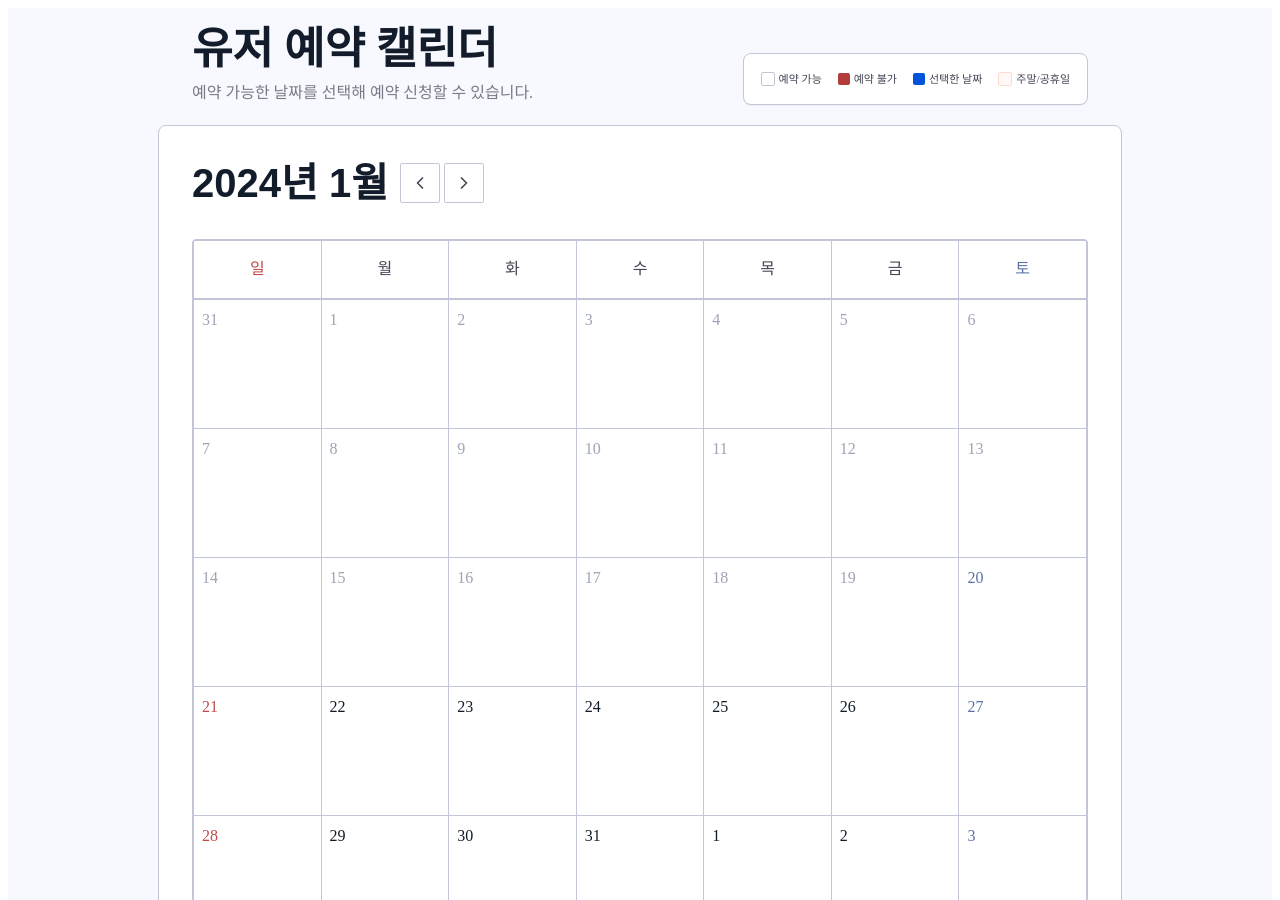
CalendarUser › Date Selection › 예약 가능한 미래 날짜는 선택과 해제가 가능하고 예약 요청 상태로 표시된다
The width and height of the screenshot is (1280, 900).
Click the text "25" at x=768, y=751, box [704, 687, 831, 815]
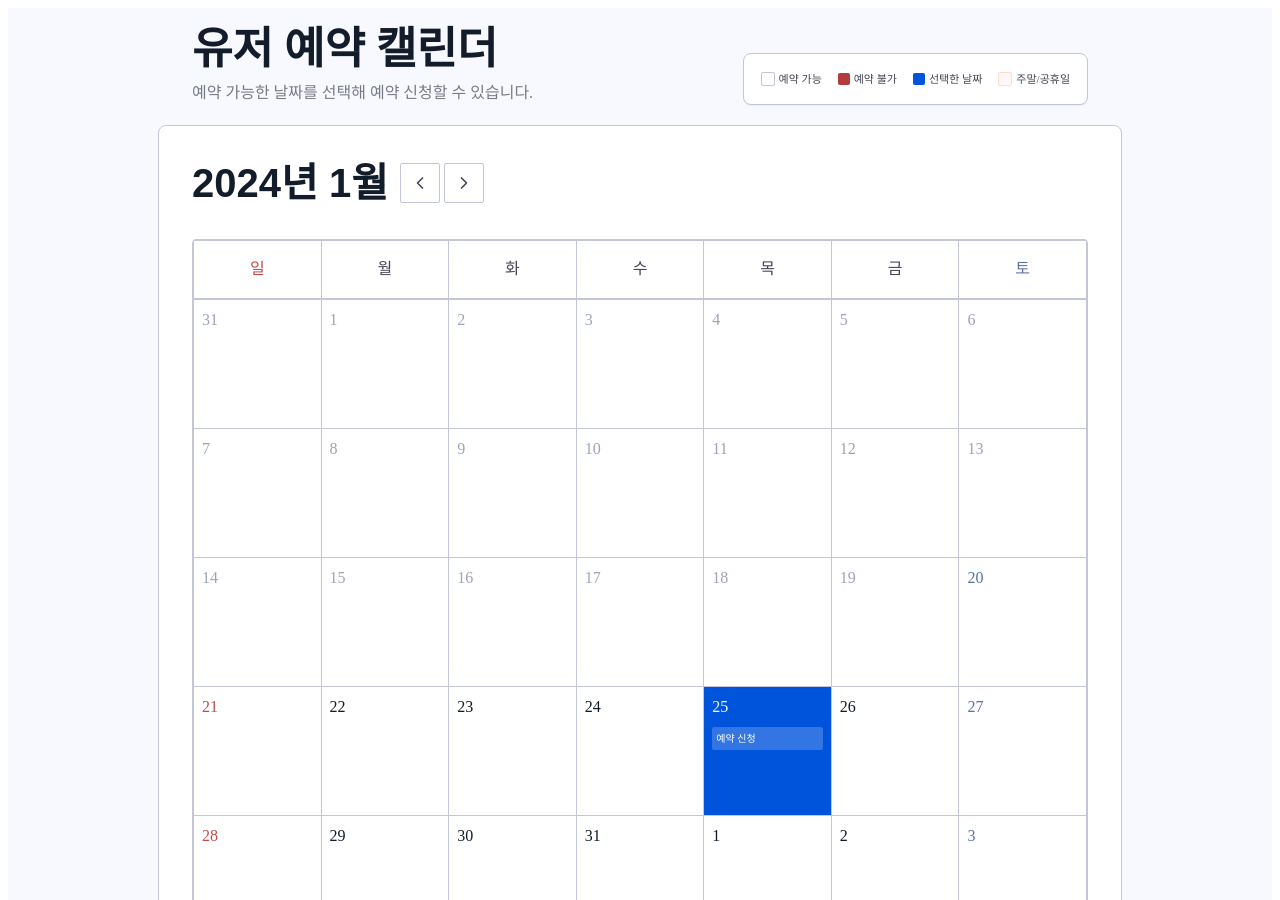
Check: the text "예약 신청" is shown, box [192, 84, 533, 101]
Click the text "25" at x=768, y=751, box [704, 687, 831, 815]
(page scrolled)
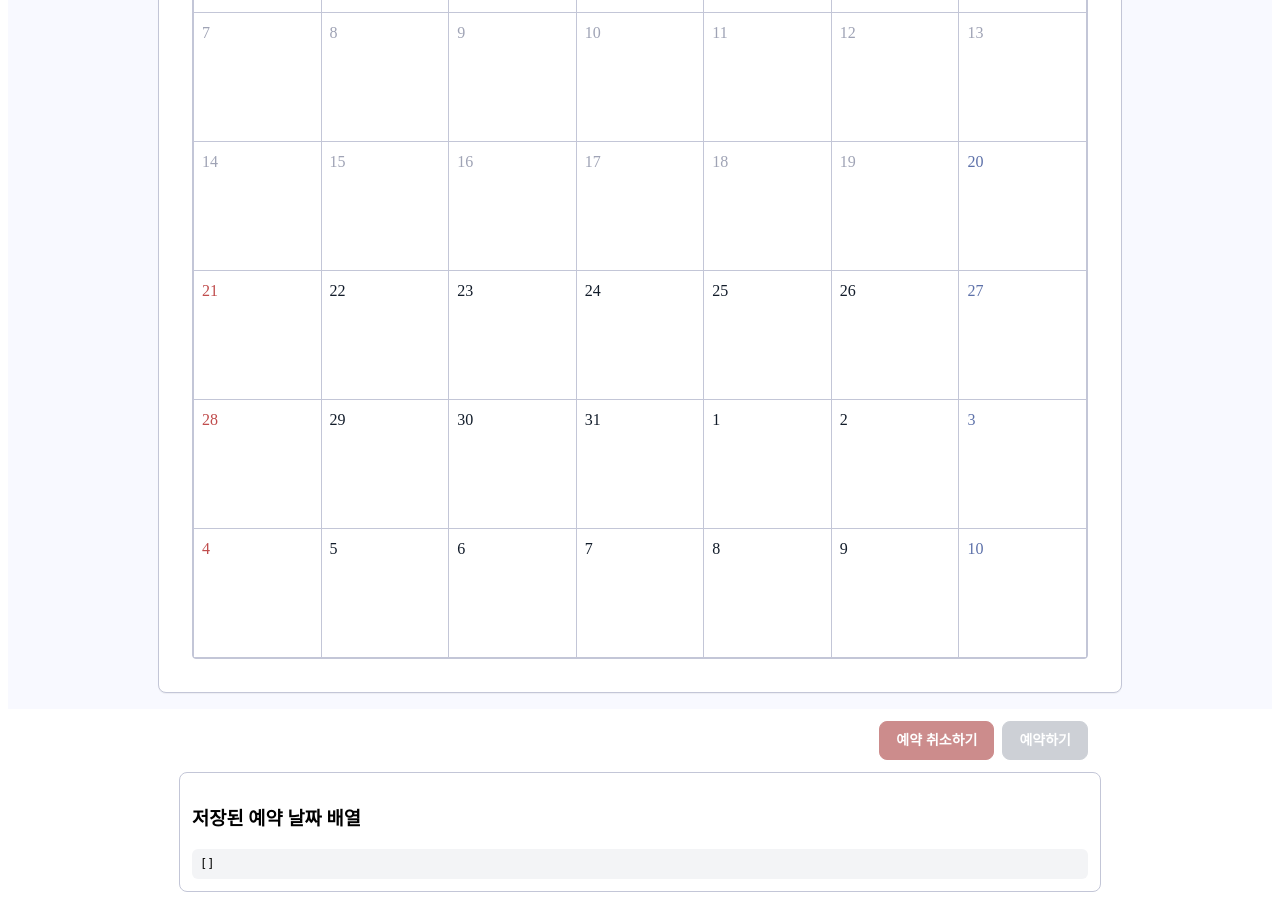
Check: the button "예약하기" is disabled, box [1002, 721, 1088, 760]
